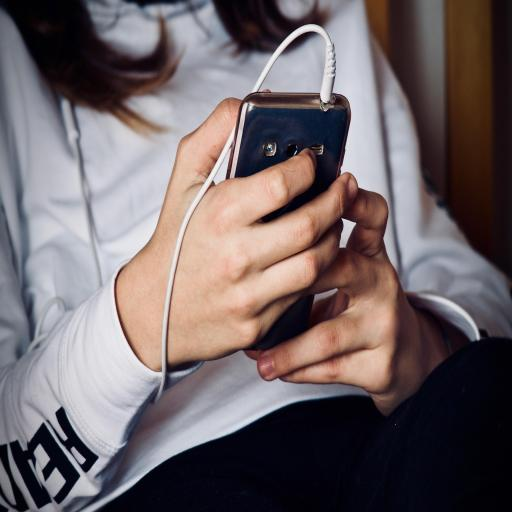phone: (238, 88, 351, 382)
